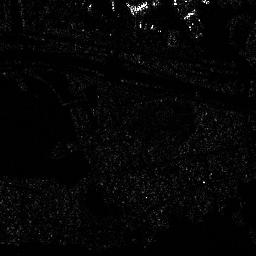ship: (171, 1, 206, 40)
